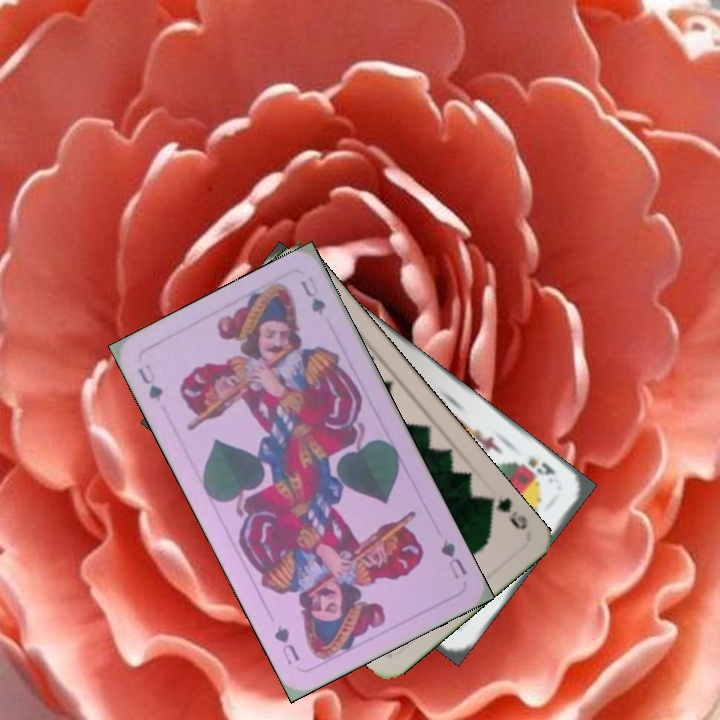G9: (480, 492, 531, 533)
GU: (436, 536, 470, 582), (133, 359, 166, 405)
SK: (523, 453, 558, 479)
